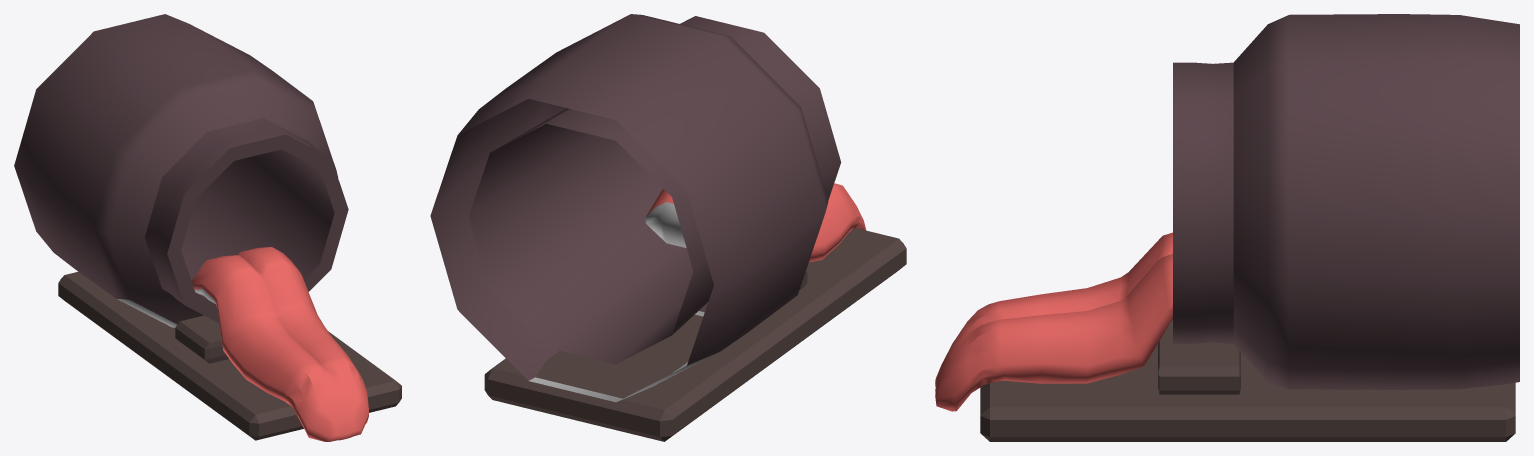
Rendered from tonguePotFixedUVs.fbx.
The picture shows the model from 3 angles, left to right: view 1: azimuth 30°, elevation 25°; view 2: azimuth 150°, elevation 25°; view 3: azimuth 270°, elevation 25°; orthographic projection. The views are drawn at different scales.
Parts seen in each view (by area): view 1: pot, tongue1, boxes; view 2: pot, boxes, tongue1; view 3: pot, boxes, tongue1.
Boxes of the visible parts, x1,y1,x2,y2 form: pot: (14,14,348,327); tongue1: (191,247,368,441); boxes: (58,271,401,440); pot: (430,14,841,402); boxes: (484,228,906,441); tongue1: (645,183,866,262); pot: (1173,14,1519,389); boxes: (980,320,1515,441); tongue1: (935,232,1172,411).
Bounding box in the file's own units: 1016 × 1071 × 1559.
